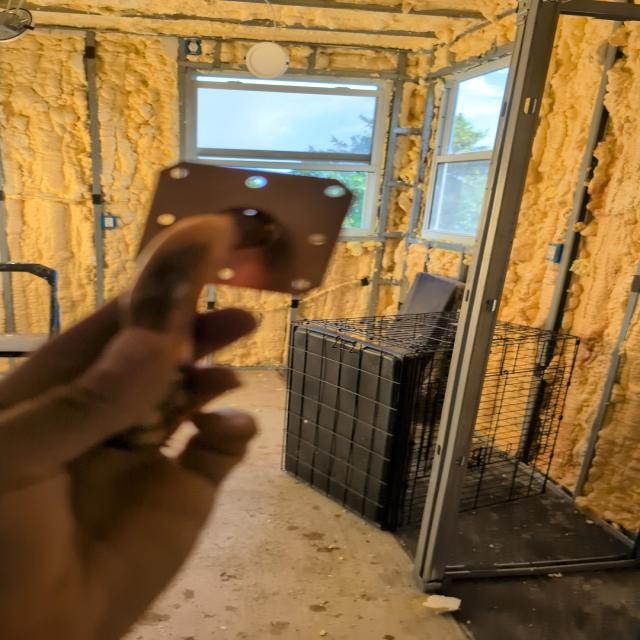wall_flange: (105, 148, 362, 462)
